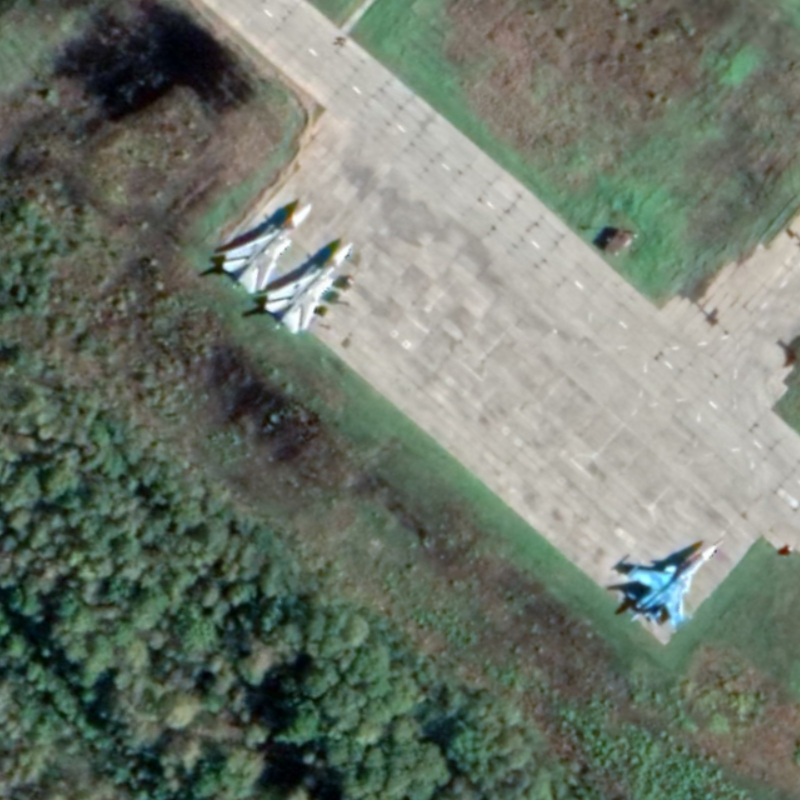A19: (625, 543, 718, 635)
A20: (219, 201, 314, 296), (262, 240, 354, 336)
